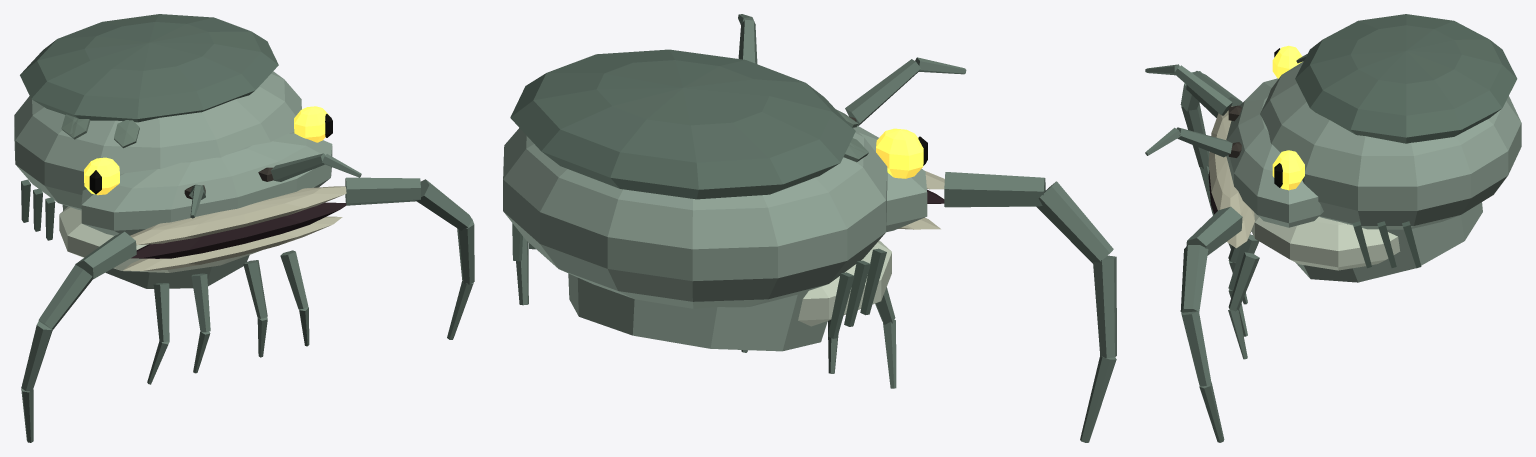
The model's file is whiskerfolk_head.glb.
The picture shows the model from 3 angles, left to right: view 1: azimuth 30°, elevation 25°; view 2: azimuth 150°, elevation 25°; view 3: azimuth 270°, elevation 25°; orthographic projection. The views are drawn at different scales.
Visible parts, largest first — view 1: whiskerfolk_head; view 2: whiskerfolk_head; view 3: whiskerfolk_head.
Boxes of the visible parts, x1,y1,x2,y2 form: whiskerfolk_head: (14, 14, 474, 442); whiskerfolk_head: (503, 14, 1116, 442); whiskerfolk_head: (1145, 14, 1521, 442).
Size of the model in its own units: 1.72 by 1.02 by 1.22.
